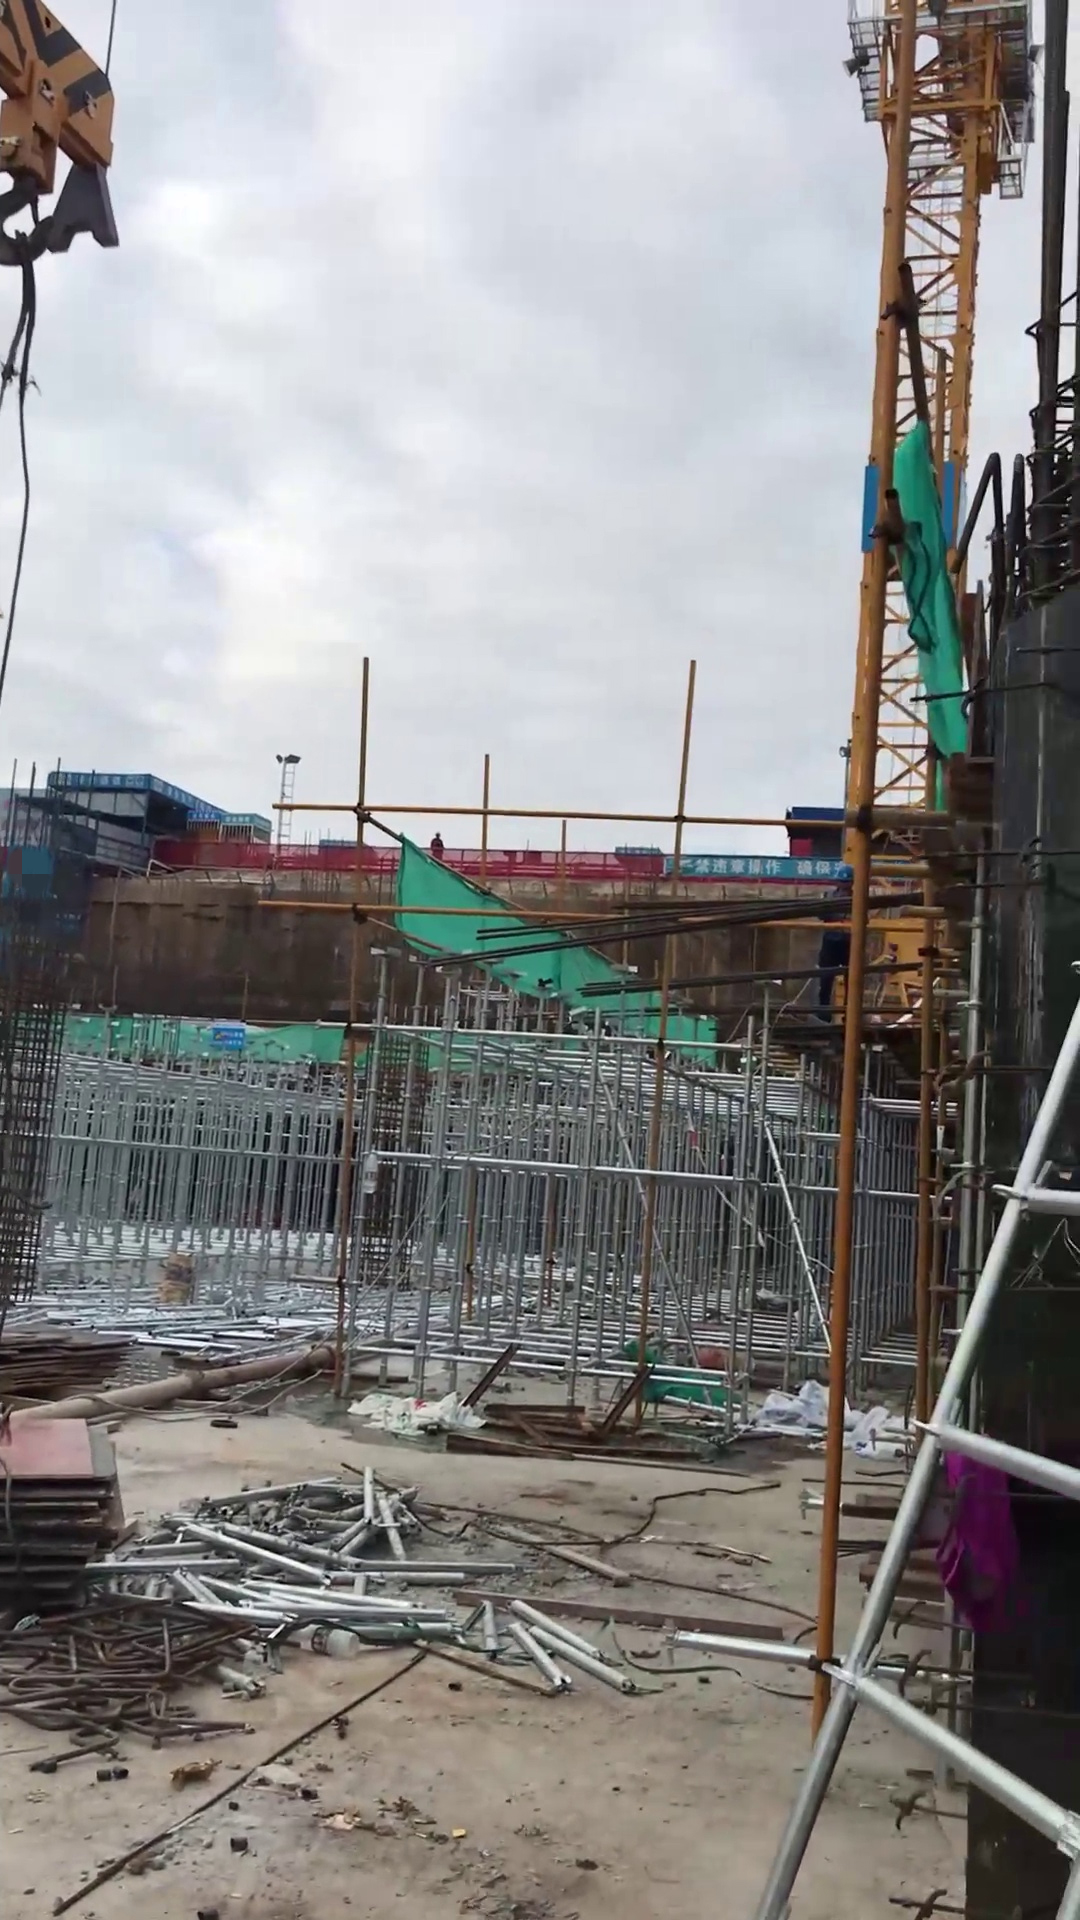board: (1, 1406, 137, 1631), (1, 1309, 152, 1414)
fence: (160, 837, 666, 889)
hook: (1, 1, 137, 284)
slogan: (675, 851, 847, 885)
